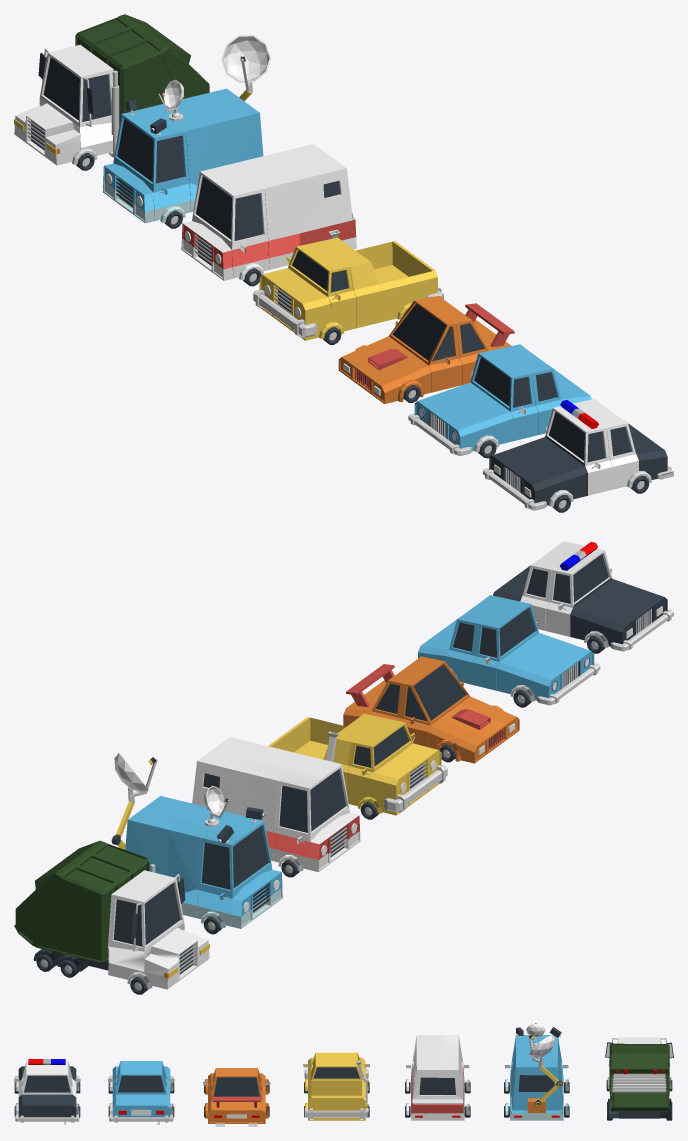
The model's file is car_truck_yellow.fbx.
The picture shows the model from 3 angles, top to bottom: view 1: azimuth 30°, elevation 25°; view 2: azimuth 150°, elevation 25°; view 3: azimuth 270°, elevation 25°; orthographic projection. The views are drawn at different scales.
Parts seen in each view (by area): view 1: Base009, Base012, Base016, Base013, Base011, Base007, Base014; view 2: Base016, Base012, Base009, Base007, Base011, Base014, Base013; view 3: Base016, Base012, Base009, Base013, Base011, Base007, Base014.
Part boxes in pixels (x1=…): Base009: x1=181, y1=144, x2=356, y2=286; Base012: x1=102, y1=34, x2=271, y2=228; Base016: x1=14, y1=14, x2=209, y2=170; Base013: x1=253, y1=229, x2=443, y2=344; Base011: x1=483, y1=399, x2=673, y2=512; Base007: x1=408, y1=344, x2=591, y2=458; Base014: x1=338, y1=295, x2=514, y2=403; Base016: x1=14, y1=840, x2=209, y2=994; Base012: x1=111, y1=753, x2=282, y2=934; Base009: x1=192, y1=737, x2=360, y2=877; Base007: x1=418, y1=595, x2=600, y2=707; Base011: x1=493, y1=541, x2=673, y2=653; Base014: x1=343, y1=656, x2=519, y2=763; Base013: x1=268, y1=713, x2=447, y2=819; Base016: x1=605, y1=1037, x2=673, y2=1120; Base012: x1=504, y1=1023, x2=569, y2=1120; Base009: x1=405, y1=1035, x2=470, y2=1120; Base013: x1=303, y1=1052, x2=369, y2=1120; Base011: x1=14, y1=1059, x2=80, y2=1124; Base007: x1=108, y1=1061, x2=174, y2=1124; Base014: x1=203, y1=1068, x2=270, y2=1126.
Size of the model in its own units: 375 by 330 by 2192.
Materials: 1 (1 with a texture image).
